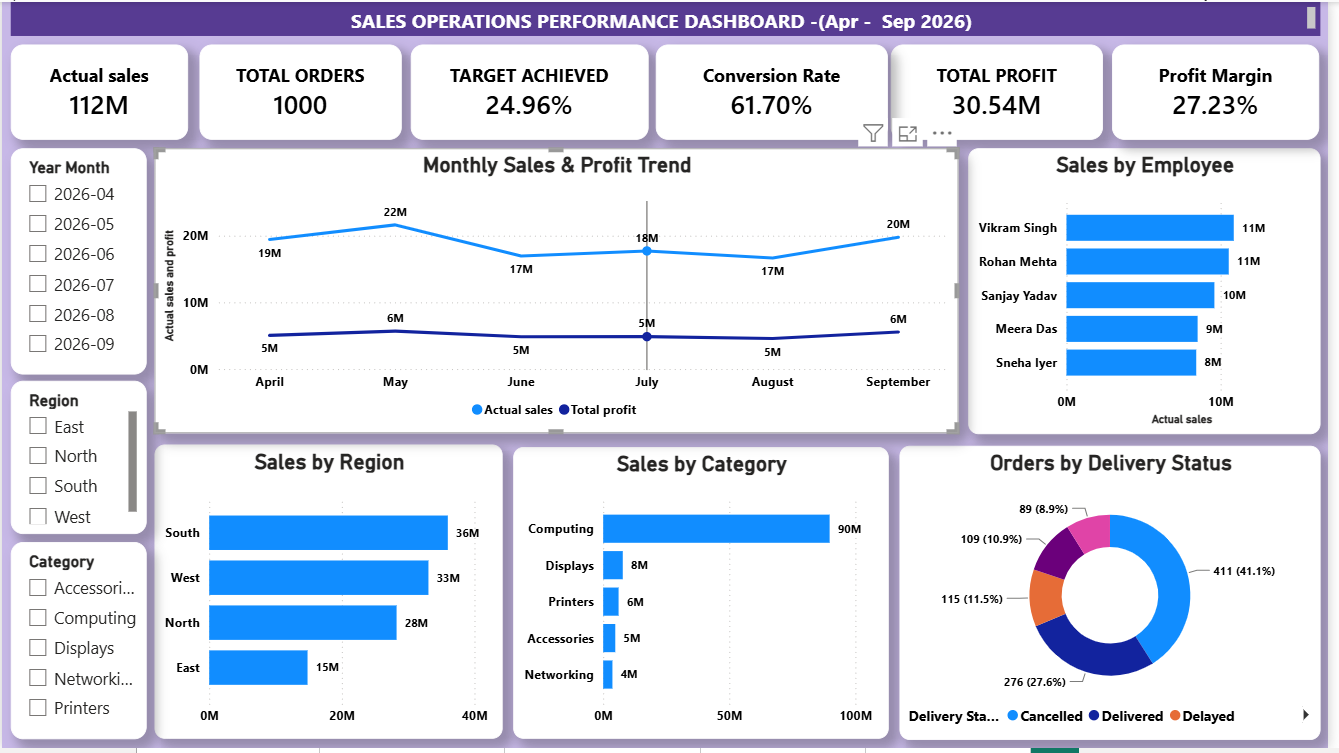

The dashboard page shown, as its layout file describes it:
{"tool":"powerbi","page":{"name":"Excutive dashboard","canvas":[1280,720],"ordinal":0},"visuals":[{"type":"cardVisual","title":"NET SALES","fields":{"Data":["Measure.Actual sales"]},"box":[8.4,41,171.3,91.7],"z":0},{"type":"cardVisual","title":"NET SALES","fields":{"Data":["Measure.Total orders"]},"box":[190.6,41,195.4,91.7],"z":1000},{"type":"cardVisual","title":"NET SALES","fields":{"Data":["Measure.Total profit"]},"box":[857.3,41.4,205.1,91.7],"z":2000},{"type":"cardVisual","title":"NET SALES","fields":{"Data":["Measure.Target Achievement %"]},"box":[394.5,41,229.2,91.7],"z":3000},{"type":"cardVisual","title":"NET SALES","fields":{"Data":["Measure.Conversion Rate %"]},"box":[631,41,224.4,91.7],"z":4000},{"type":"slicer","fields":{"Values":["DimDate.Year Month"]},"box":[8.4,141.2,131.5,218.4],"z":5000},{"type":"lineChart","title":"Monthly Sales & Profit Trend","fields":{"Category":["DimDate.Year Month.Variation.Date Hierarchy.Month"],"Y":["Measure.Actual sales","Measure.Total profit"]},"box":[147.2,141.2,775.7,275.1],"z":6000},{"type":"clusteredBarChart","title":"Sales by Region","fields":{"Category":["FactSales.Region"],"Y":["Measure.Actual sales"]},"box":[147.5,427.5,336.2,283.8],"z":7000},{"type":"clusteredBarChart","title":"Sales by Category","fields":{"Category":["DimProduct.Category"],"Y":["Measure.Actual sales"]},"box":[493.8,430,362.5,281.2],"z":8000},{"type":"clusteredBarChart","title":"Sales by Employee ","fields":{"Category":["DimEmployee.Employee Name"],"Y":["Measure.Actual sales"]},"box":[932.6,140.6,340.1,276.1],"z":9000},{"type":"donutChart","title":"Orders by Delivery Status","fields":{"Category":["FactSales.Delivery Status"],"Y":["Measure.Total orders"]},"box":[866.1,428,406.7,283.7],"z":10000},{"type":"slicer","fields":{"Values":["FactSales.Region"]},"box":[8.4,365,131.5,148.4],"z":11000},{"type":"slicer","fields":{"Values":["DimProduct.Category"]},"box":[8.8,521.2,131.2,190],"z":12000},{"type":"textbox","box":[8.8,0,1263.9,32.6],"z":13000},{"type":"cardVisual","title":"NET SALES","fields":{"Data":["Measure.Profit Margin %"]},"box":[1071.3,41,200.3,91.7],"z":14000}]}

Visuals, with their boxes in screenshot pixels (x1, y1, x2, y2), scaled from the page's 1280x720 canvas onto the 1339x753 screenshot:
"NET SALES" cardVisual: box(9, 43, 188, 139)
"NET SALES" cardVisual: box(199, 43, 404, 139)
"NET SALES" cardVisual: box(897, 43, 1111, 139)
"NET SALES" cardVisual: box(413, 43, 652, 139)
"NET SALES" cardVisual: box(660, 43, 895, 139)
slicer - DimDate.Year Month: box(9, 148, 146, 376)
"Monthly Sales & Profit Trend" lineChart: box(154, 148, 965, 435)
"Sales by Region" clusteredBarChart: box(154, 447, 506, 744)
"Sales by Category" clusteredBarChart: box(517, 450, 896, 744)
"Sales by Employee " clusteredBarChart: box(976, 147, 1331, 436)
"Orders by Delivery Status" donutChart: box(906, 448, 1331, 744)
slicer - FactSales.Region: box(9, 382, 146, 537)
slicer - DimProduct.Category: box(9, 545, 146, 744)
textbox: box(9, 0, 1331, 34)
"NET SALES" cardVisual: box(1121, 43, 1330, 139)
